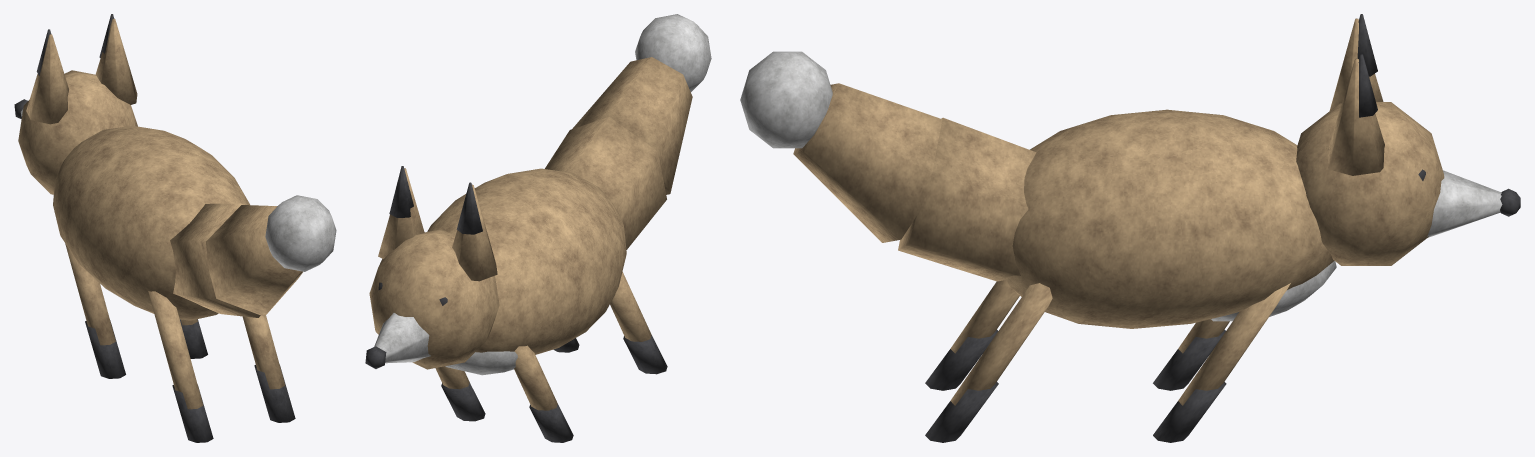
The model's file is mob_rubah_walk1.obj.
3 views of the same model, side by side, from view 1: azimuth 30°, elevation 25°; view 2: azimuth 150°, elevation 25°; view 3: azimuth 270°, elevation 25° (orthographic). The views are drawn at different scales.
Visible parts, largest first — view 1: mob_rubah_walk1; view 2: mob_rubah_walk1; view 3: mob_rubah_walk1.
Boxes of the visible parts, x1,y1,x2,y2 form: mob_rubah_walk1: (14, 14, 336, 442); mob_rubah_walk1: (365, 14, 711, 442); mob_rubah_walk1: (740, 14, 1520, 442).
Size of the model in its own units: 0.3759 by 0.6825 by 1.29.
1 material, 1 textured.
